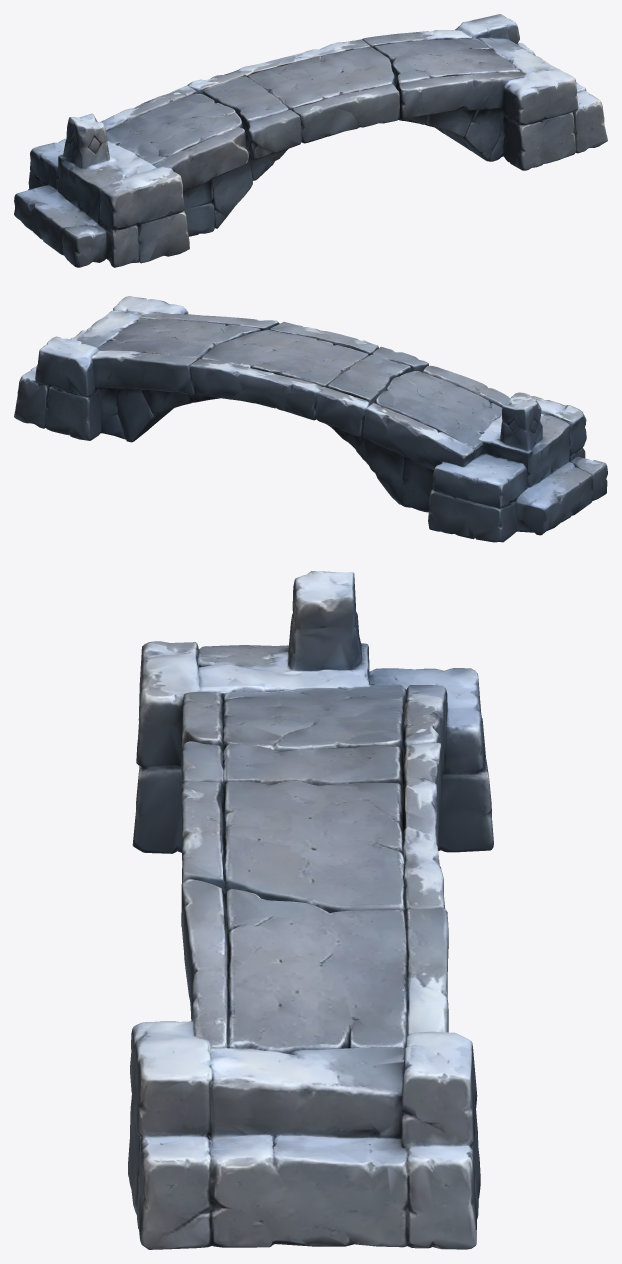
The model's file is puente.glb.
3 views of the same model, one above another, from view 1: azimuth 30°, elevation 25°; view 2: azimuth 150°, elevation 25°; view 3: azimuth 270°, elevation 25° (orthographic). The views are drawn at different scales.
Visible parts, largest first — view 1: tripo_node_9b397acf-3f3b-4cb6-8381-efa00cd8d7c0; view 2: tripo_node_9b397acf-3f3b-4cb6-8381-efa00cd8d7c0; view 3: tripo_node_9b397acf-3f3b-4cb6-8381-efa00cd8d7c0.
Part boxes in pixels (x1=…): tripo_node_9b397acf-3f3b-4cb6-8381-efa00cd8d7c0: x1=14, y1=14, x2=607, y2=267; tripo_node_9b397acf-3f3b-4cb6-8381-efa00cd8d7c0: x1=14, y1=296, x2=607, y2=542; tripo_node_9b397acf-3f3b-4cb6-8381-efa00cd8d7c0: x1=128, y1=571, x2=493, y2=1249.
Size of the model in its own units: 0.9997 by 0.2046 by 0.3054.
1 material, 1 textured.
